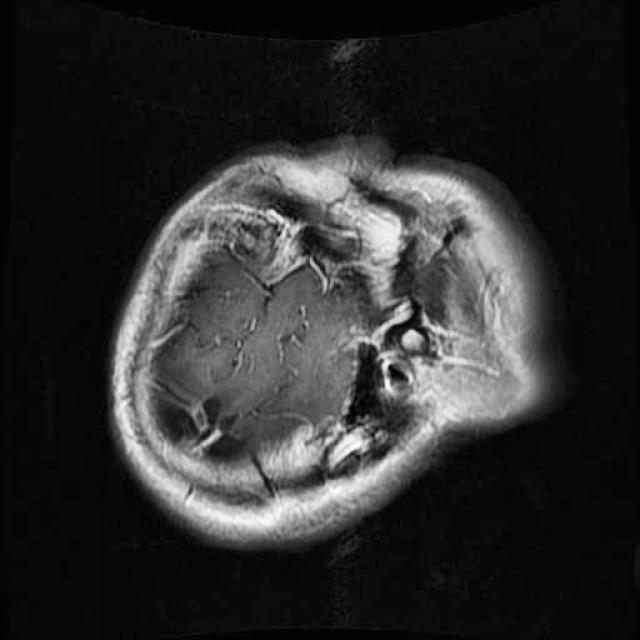Tumor: (134, 378, 261, 479)
